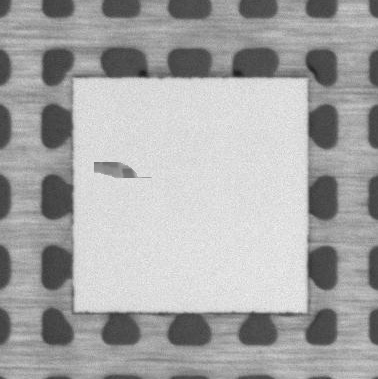DIE_INK: (94, 162, 138, 179)
